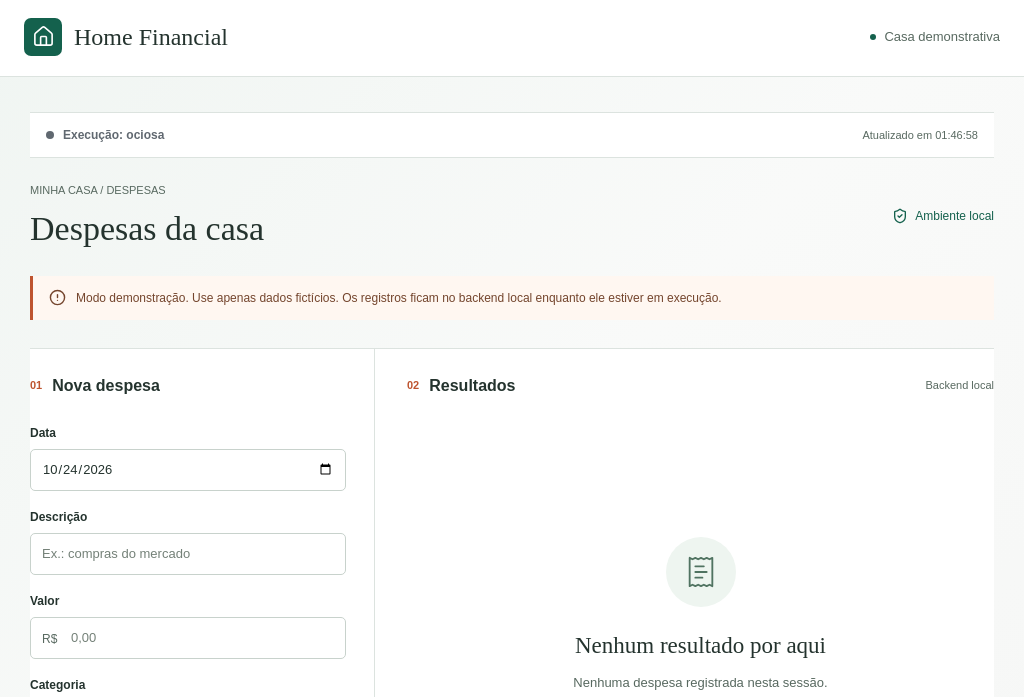
Test: form/run/results/history integration (AC-P0.3, P0.7 prototype) › offers review navigation when monthly insights are held for pending expenses
Step 1. Type "2026-10-09" into the date field labelled "Data" → (188, 470), box [30,449,346,491]
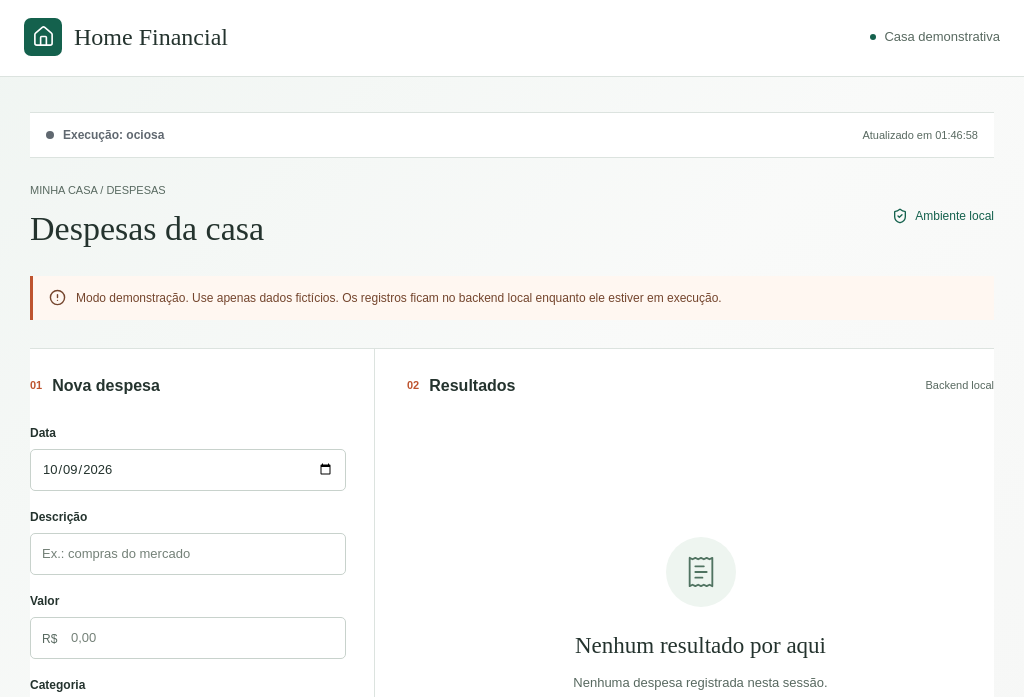
Step 2. Type "Mercado demo" into the field labelled "Descrição" → (188, 554), box [30,533,346,575]
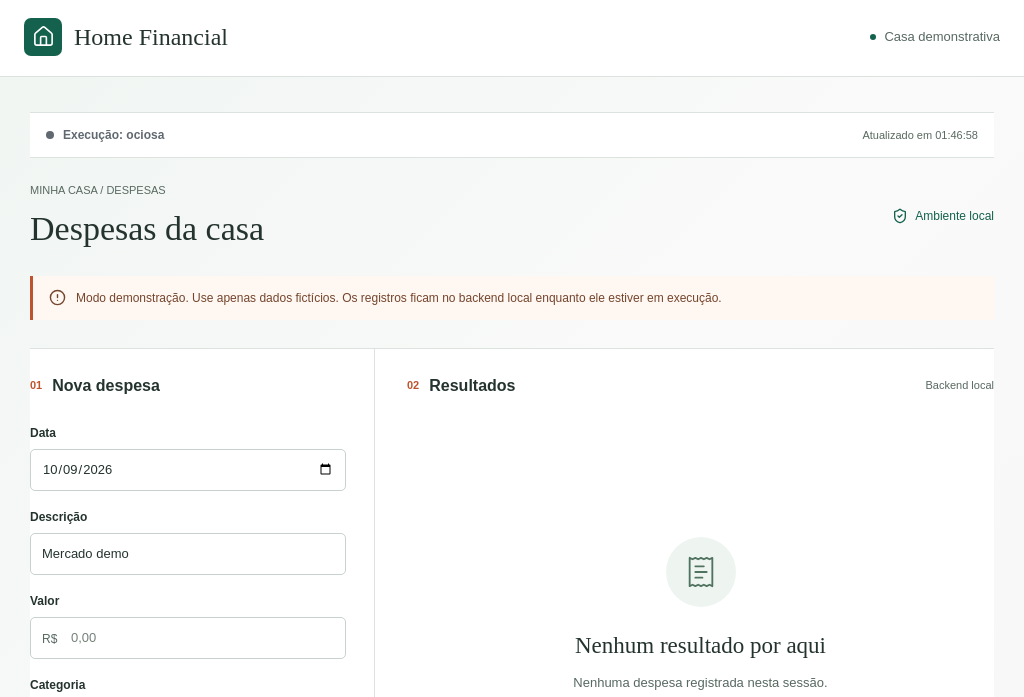
Step 3. Type "123,45" into the field labelled "Valor" → (188, 638), box [30,617,346,659]
(page scrolled)
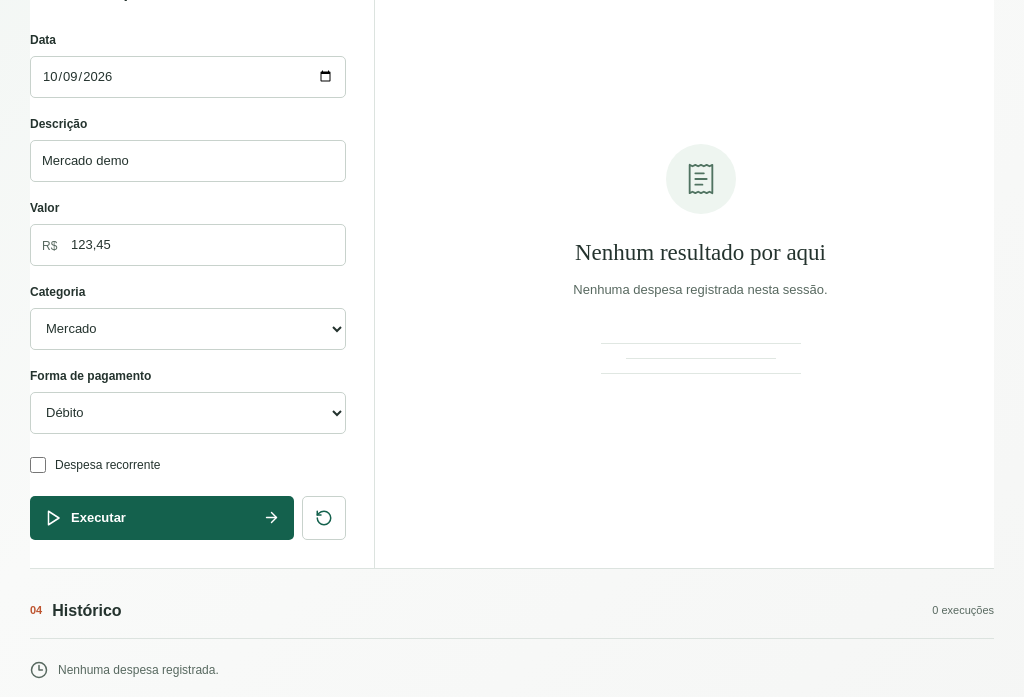
Step 4. Click the button "Executar" → click(98, 517), box [30,496,294,540]
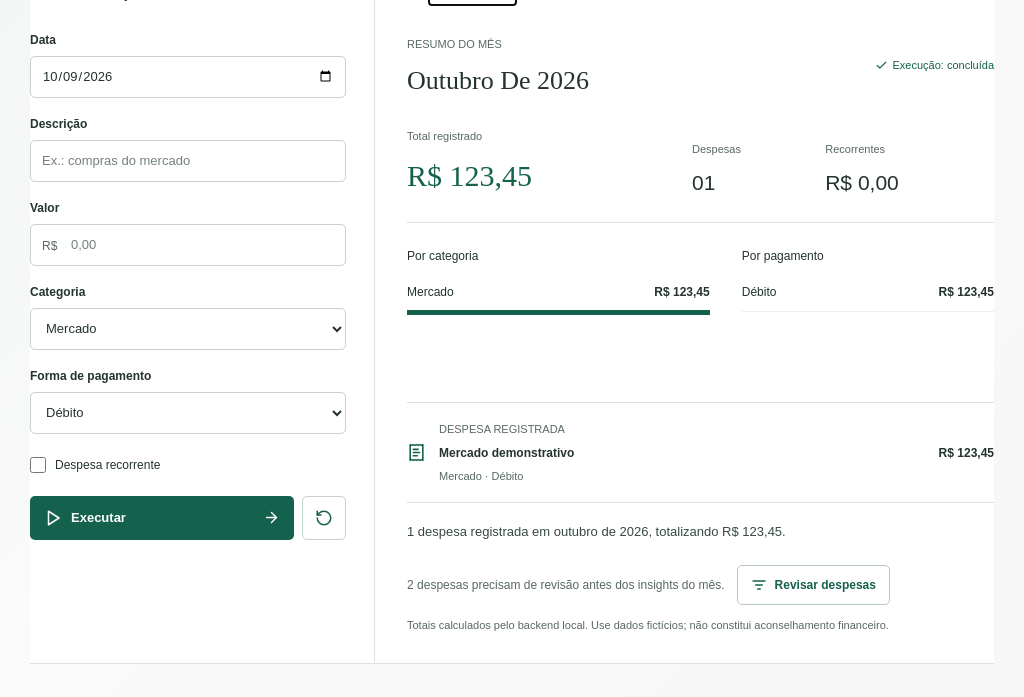
Check: the text "2 despesas precisam de revisão antes dos insights do mês." is shown, box [407,576,724,595]
Check: the button "Revisar despesas" is shown, box [736,565,890,605]
